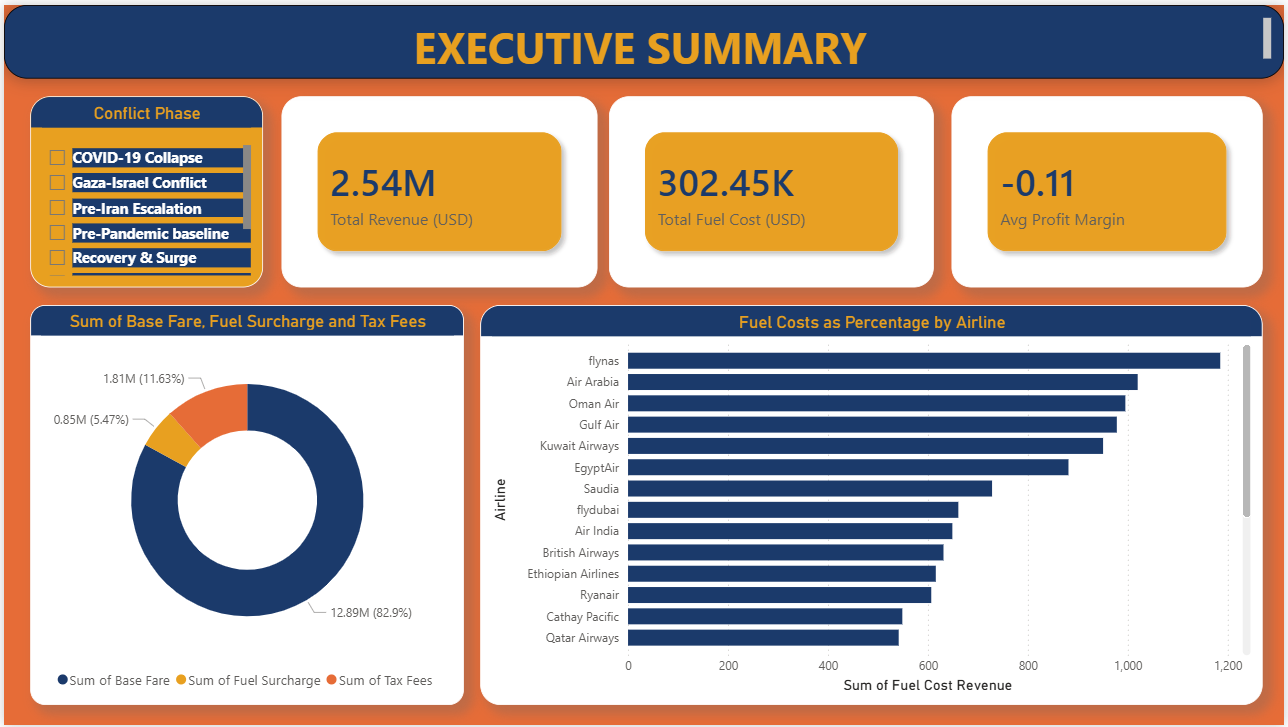

The page's visual inventory and layout, read from the dashboard file:
{"tool":"powerbi","page":{"name":"Executive Summary","canvas":[1280,720],"ordinal":0},"visuals":[{"type":"cardVisual","title":"Total Revenue (USD)","fields":{"Data":["airline_financial_impact.Total Revenue (USD)"]},"box":[277.5,91.2,316.2,191.2],"z":3000},{"type":"cardVisual","title":"Total Fuel Cost (USD)","fields":{"Data":["airline_financial_impact.Total Fuel Cost (USD)"]},"box":[605,91.2,325,191.2],"z":4000},{"type":"cardVisual","title":"Avg Profit Margin","fields":{"Data":["airline_financial_impact.Avg Profit Margin"]},"box":[947.5,91.2,311.2,191.2],"z":5000},{"type":"donutChart","title":"Sum of Base Fare, Fuel Surcharge and Tax Fees","fields":{"Y":["Sum(airline_ticket_prices.base_fare_usd)","Sum(fuel_surcharges.fuel_surcharge_usd)","Sum(airline_ticket_prices.taxes_fees_usd)"]},"box":[26.2,300,433.8,400],"z":6000},{"type":"clusteredBarChart","title":"Fuel Costs as Percentage by Airline","fields":{"Category":["airline_financial_impact.airline"],"Y":["Sum(airline_financial_impact.fuel_cost_pct_revenue)"]},"box":[476.2,300,782.5,400],"z":7000},{"type":"slicer","title":"Conflict Phase","fields":{"Values":["dim_conflict_phase.Conflict_phase"]},"box":[26.2,91.2,232.5,191.2],"z":8000},{"type":"textbox","box":[0,0,1280,73.8],"z":9000}]}

Visuals, with their boxes in screenshot pixels (x1, y1, x2, y2), scaled from the page's 1280x720 canvas onto the 1288x727 screenshot:
"Total Revenue (USD)" cardVisual: BBox(279, 92, 597, 285)
"Total Fuel Cost (USD)" cardVisual: BBox(609, 92, 936, 285)
"Avg Profit Margin" cardVisual: BBox(953, 92, 1267, 285)
"Sum of Base Fare, Fuel Surcharge and Tax Fees" donutChart: BBox(26, 303, 463, 707)
"Fuel Costs as Percentage by Airline" clusteredBarChart: BBox(479, 303, 1267, 707)
"Conflict Phase" slicer: BBox(26, 92, 260, 285)
textbox: BBox(0, 0, 1287, 75)
